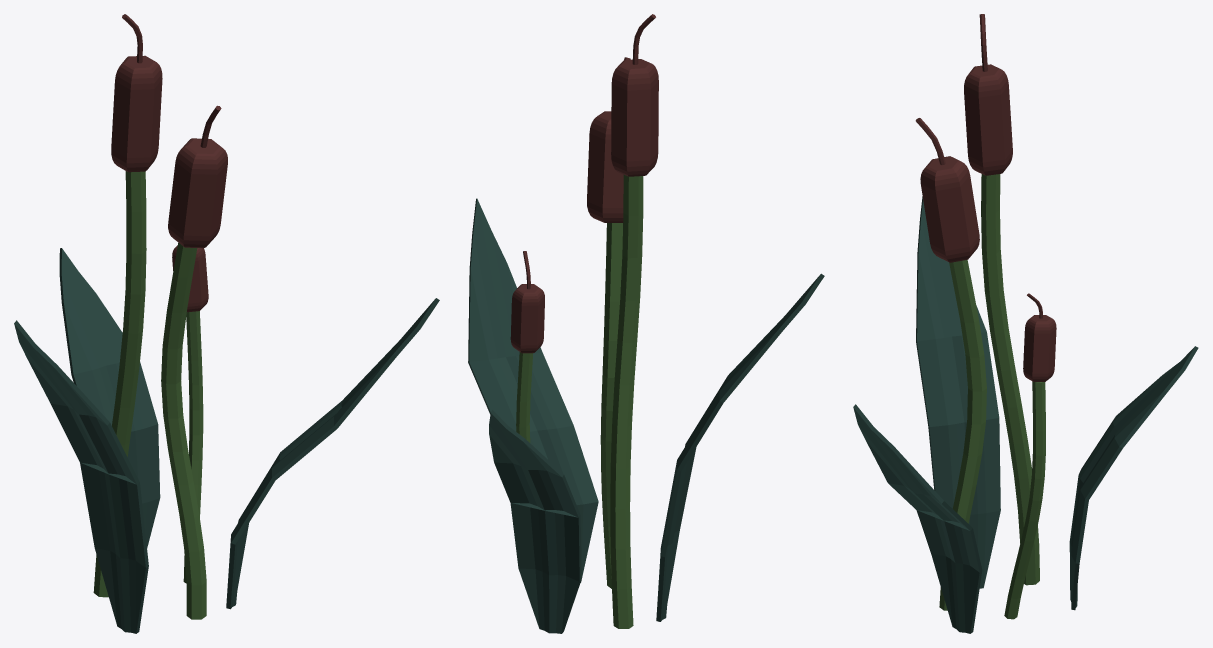
The model's file is Plant_2.fbx.
3 renders of one model, left to right at view 1: azimuth 30°, elevation 25°; view 2: azimuth 150°, elevation 25°; view 3: azimuth 270°, elevation 25°, orthographic. The views are drawn at different scales.
Visible parts, largest first — view 1: Leaf.002; view 2: Leaf.002; view 3: Leaf.002.
Part boxes in pixels (box(x1,y1,x2,y2)): Leaf.002: box(14, 14, 439, 633); Leaf.002: box(468, 14, 824, 633); Leaf.002: box(853, 14, 1198, 633).
Bounding box in the file's own units: 126 × 189 × 103.
